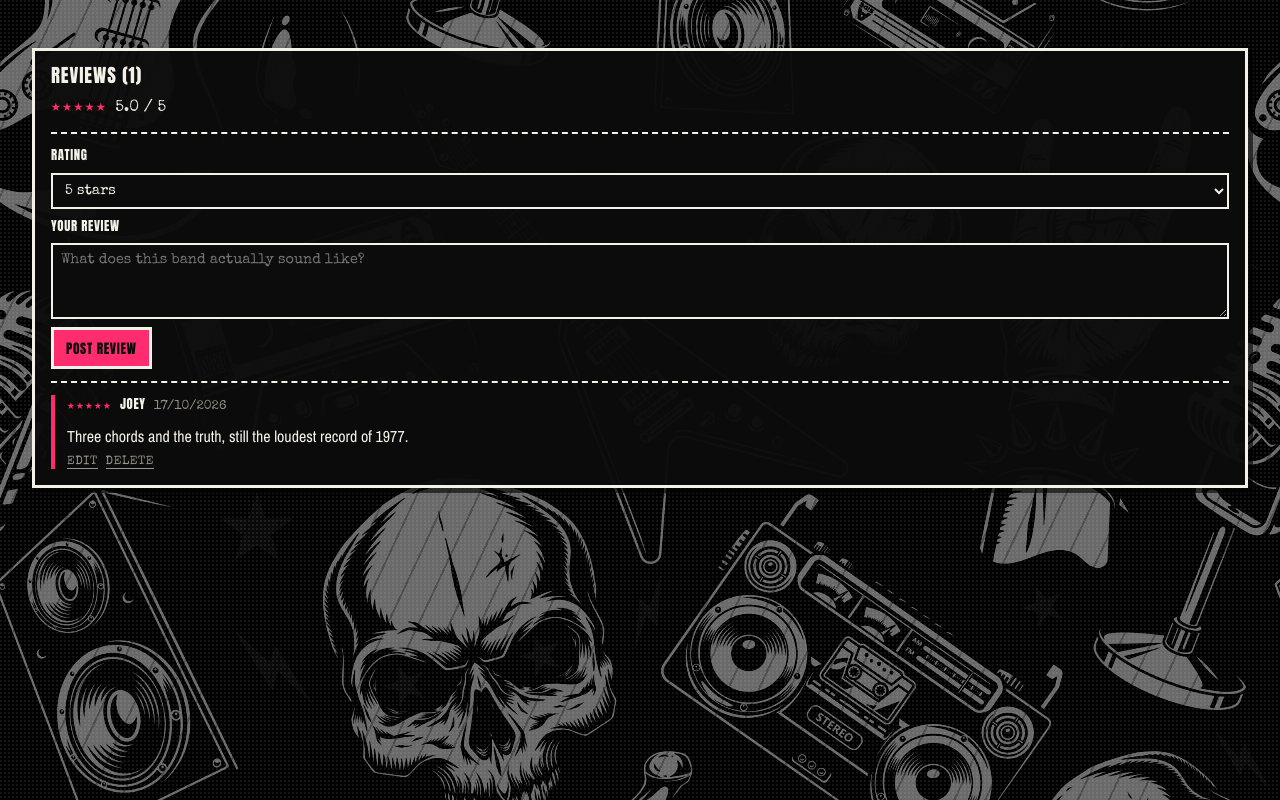
Test case: BandReviews — editing and deleting › loads your review into the form and saves the change
Click the button "Edit".
click(82, 462)  # box x1=67 y1=456 x2=98 y2=469
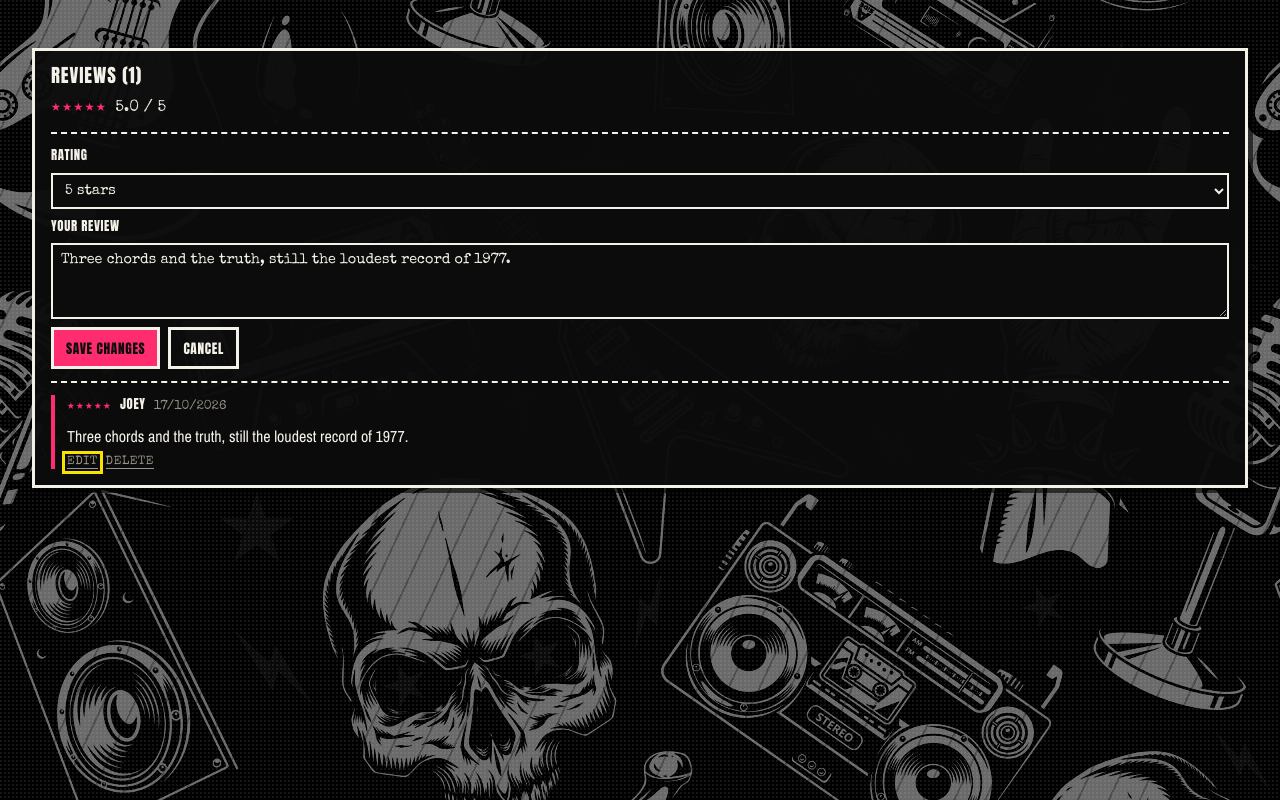
Now the text box labelled "Your review" holds "Three chords and the truth, still the loudest record of 1977."
Replace the text in the text box labelled "Your review" with "On reflection, the bass does the work." at (640, 281), box x1=51 y1=243 x2=1229 y2=319
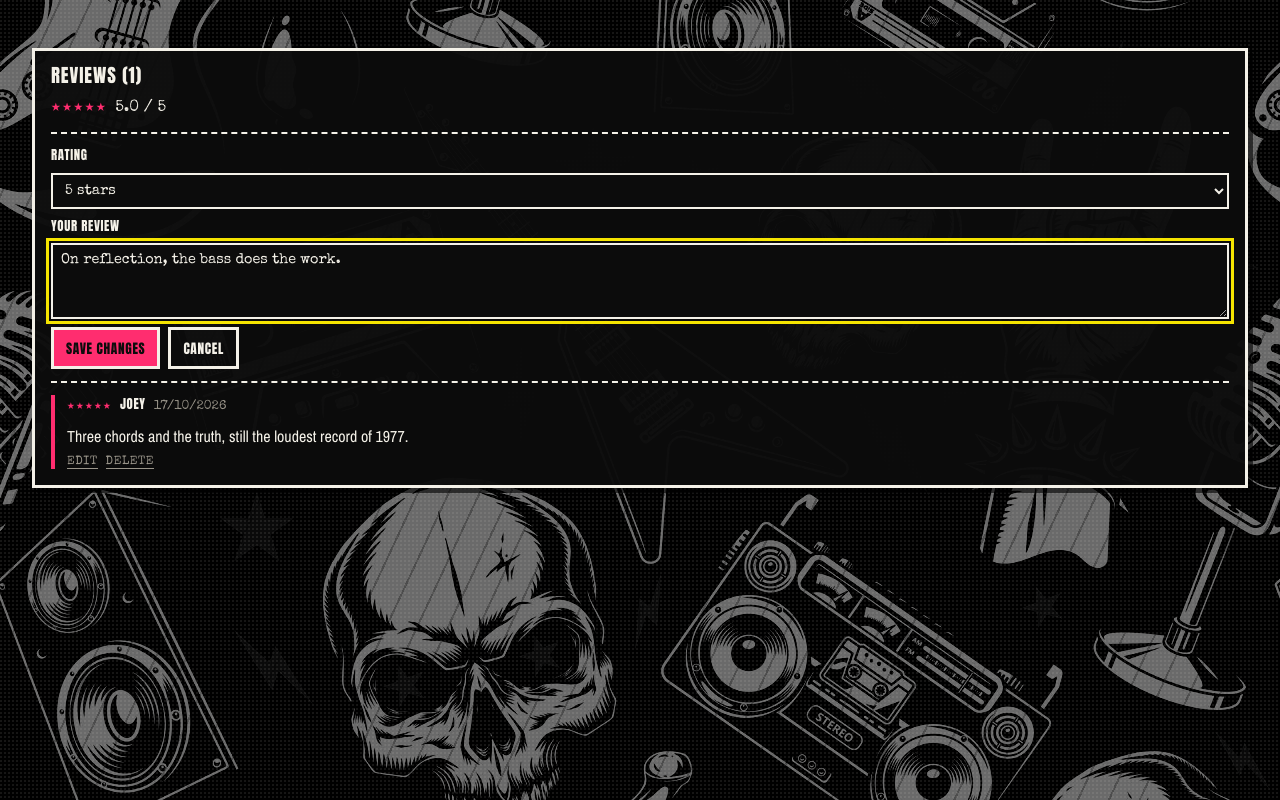
Select "3 stars" in the dropdown labelled "Rating" at (640, 190), box x1=51 y1=172 x2=1229 y2=208
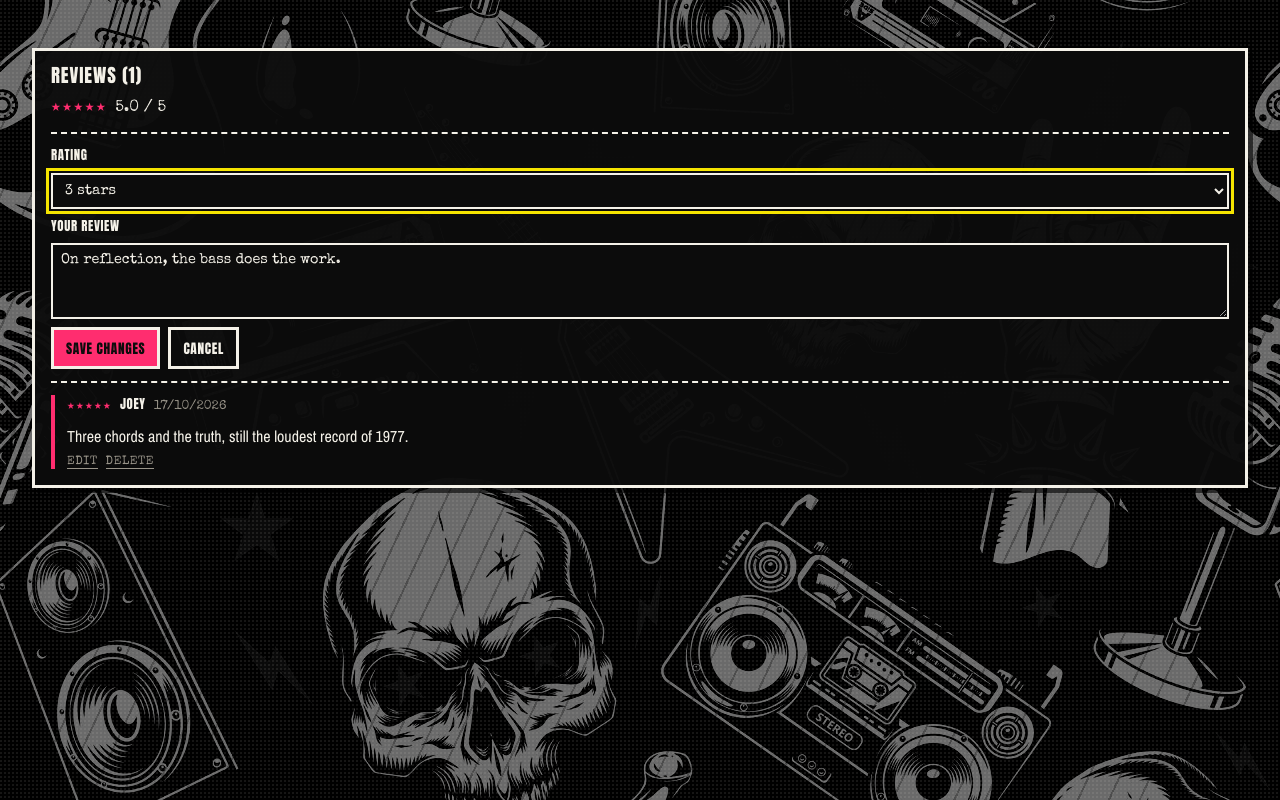
Click the button "Save changes".
click(106, 348)  # box x1=51 y1=327 x2=160 y2=369
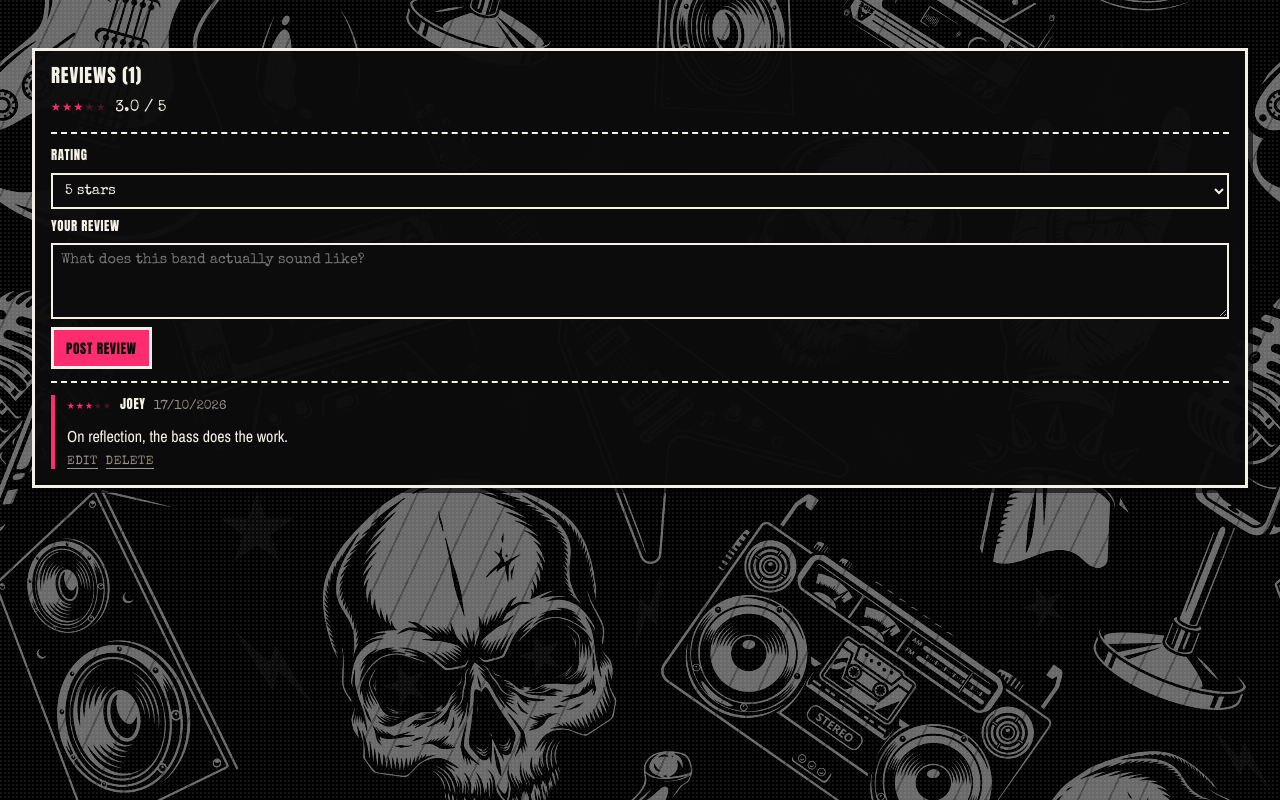
Now the text "On reflection, the bass does the work." is shown, box x1=67 y1=425 x2=288 y2=447
